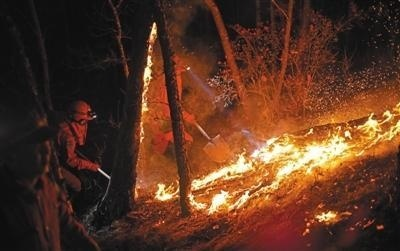fire: (186, 94, 397, 217)
